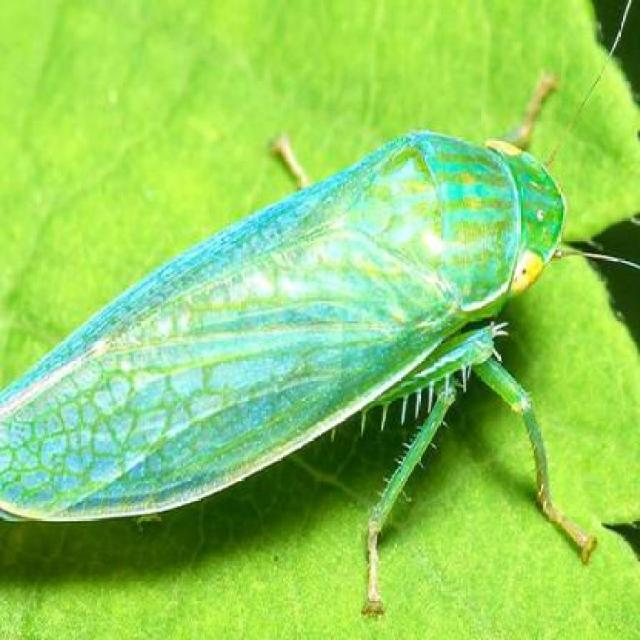green-leafhopper: (0, 135, 578, 566)
